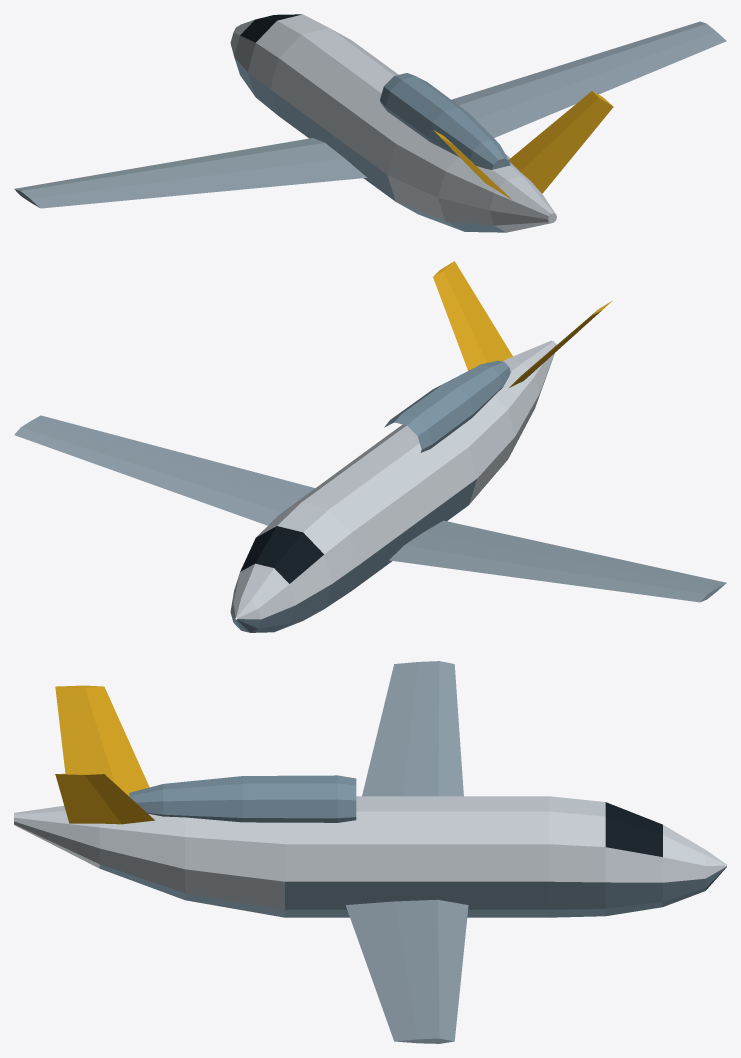
The picture shows the model from 3 angles, top to bottom: view 1: azimuth 30°, elevation 25°; view 2: azimuth 150°, elevation 25°; view 3: azimuth 270°, elevation 25°; orthographic projection. The views are drawn at different scales.
Visible parts, largest first — view 1: lod0; view 2: lod0; view 3: lod0.
Part boxes in pixels (x1,y1,x2,y2): lod0: [14, 14, 726, 232]; lod0: [14, 261, 726, 632]; lod0: [14, 661, 726, 1043].
Size of what is drawn, in the model's own units: 1.25 by 0.2782 by 1.
